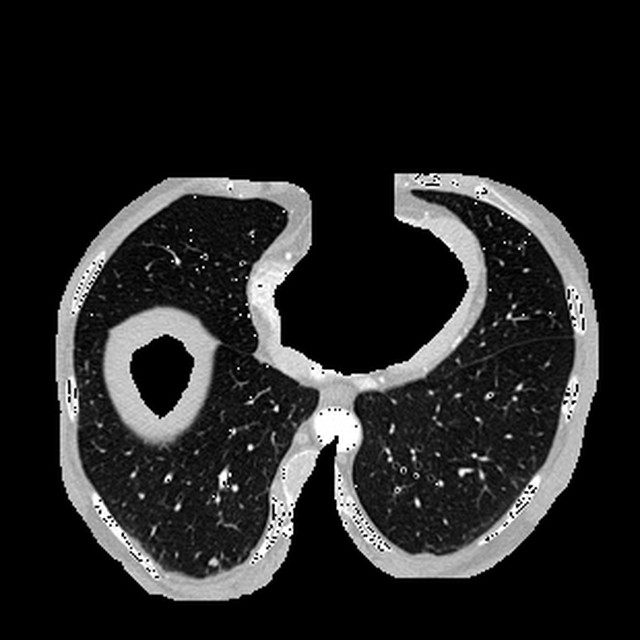PN: (209, 557, 217, 566)
